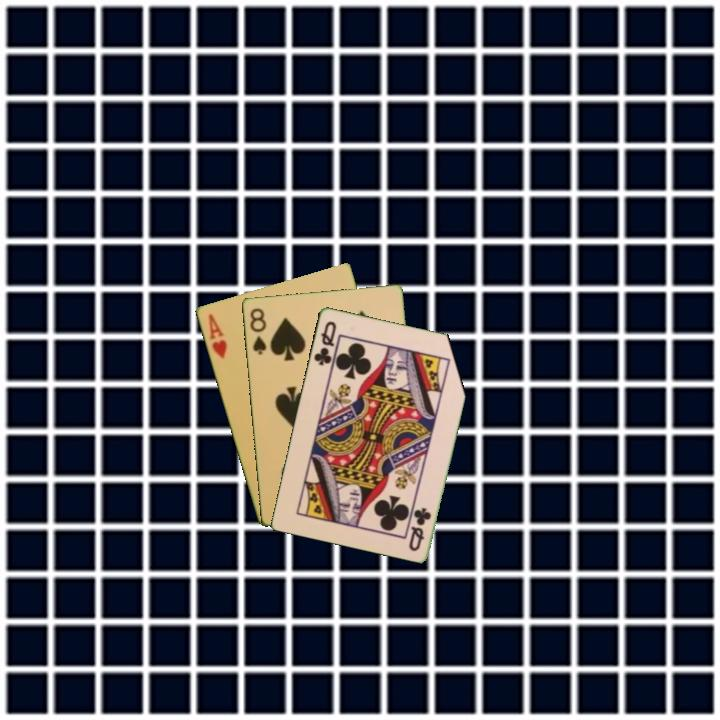8s: (246, 304, 269, 357)
Ah: (204, 310, 229, 362)
Qc: (310, 317, 339, 368), (405, 503, 434, 554)
